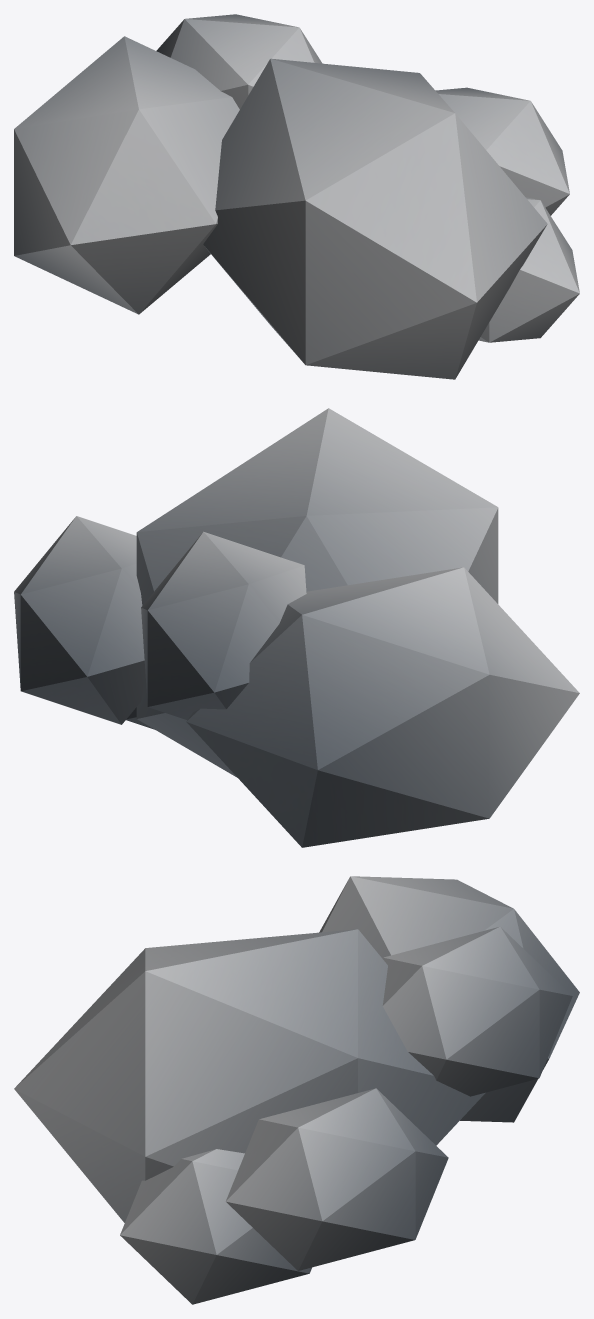
Rendered from nubes1.fbx.
The picture shows the model from 3 angles, top to bottom: view 1: azimuth 30°, elevation 25°; view 2: azimuth 150°, elevation 25°; view 3: azimuth 270°, elevation 25°; orthographic projection. The views are drawn at different scales.
Visible parts, largest first — view 1: nube1; view 2: nube1; view 3: nube1.
Boxes of the visible parts, left/top/right/bottom form: nube1: left=14, top=14, right=579, bottom=379; nube1: left=14, top=408, right=579, bottom=847; nube1: left=14, top=876, right=579, bottom=1304.
Bounding box in the file's own units: 1155 × 597 × 1098.
